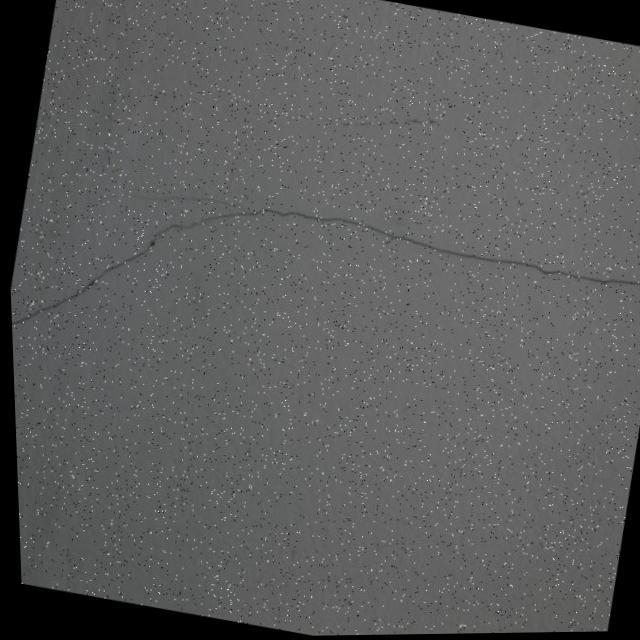Crack: (4, 147, 640, 493)
